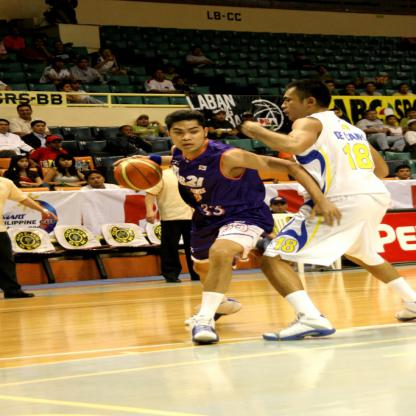Ball: (113, 158, 162, 188)
